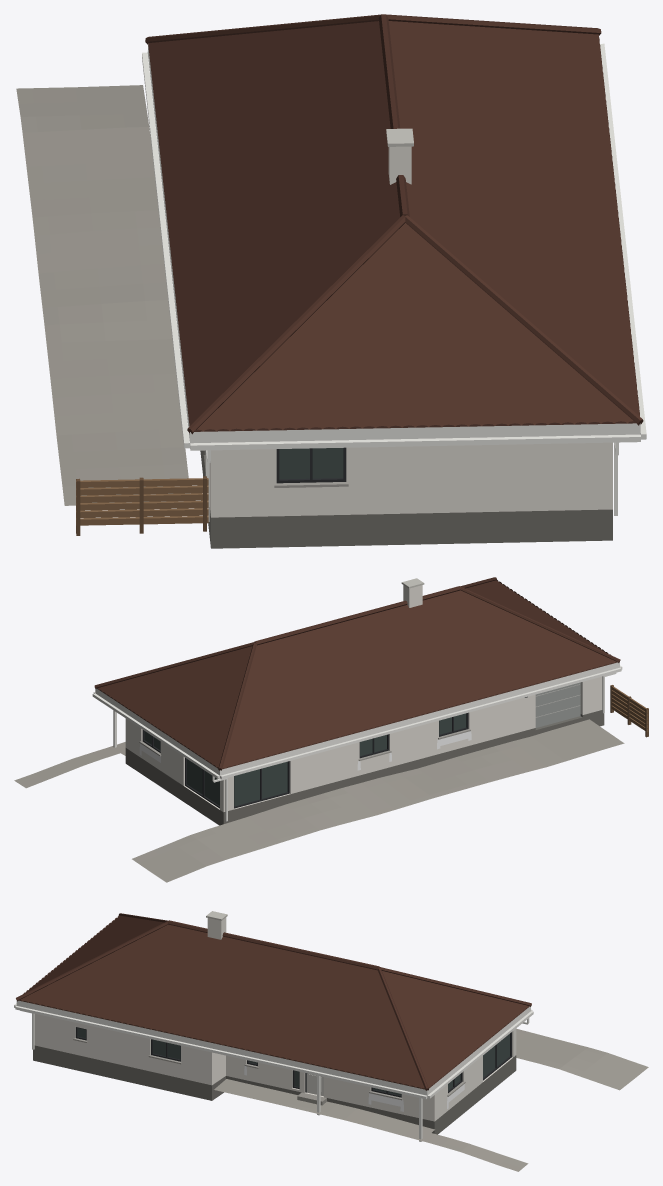
Rendered from vh_white_bungalow.glb.
The picture shows the model from 3 angles, top to bottom: view 1: azimuth 30°, elevation 25°; view 2: azimuth 150°, elevation 25°; view 3: azimuth 270°, elevation 25°; orthographic projection. The views are drawn at different scales.
Parts seen in each view (by area): view 1: vh_roof, vh_paving, vh_render, vh_trim, vh_frames_small, vh_glass, vh_stone; view 2: vh_roof, vh_paving, vh_trim, vh_render, vh_frames_small, vh_glass, vh_streaks_small, vh_stone; view 3: vh_roof, vh_render, vh_trim, vh_paving, vh_frames_small, vh_glass, vh_stone, vh_streaks_small.
Part boxes in pixels (<box>): vh_roof: <box>145,14,643,434</box>; vh_paving: <box>16,85,189,505</box>; vh_render: <box>209,146,612,517</box>; vh_trim: <box>148,34,640,548</box>; vh_frames_small: <box>76,43,646,535</box>; vh_glass: <box>279,448,343,479</box>; vh_stone: <box>274,128,413,487</box>; vh_roof: <box>94,577,620,770</box>; vh_paving: <box>14,719,624,882</box>; vh_trim: <box>95,579,619,825</box>; vh_render: <box>125,585,602,812</box>; vh_frames_small: <box>92,665,648,821</box>; vh_glass: <box>144,713,466,806</box>; vh_streaks_small: <box>139,731,471,770</box>; vh_stone: <box>139,578,470,760</box>; vh_roof: <box>16,913,531,1090</box>; vh_render: <box>34,917,516,1121</box>; vh_trim: <box>16,916,530,1141</box>; vh_paving: <box>214,1028,648,1171</box>; vh_frames_small: <box>14,1003,533,1099</box>; vh_glass: <box>77,1028,509,1095</box>; vh_stone: <box>73,911,465,1105</box>; vh_streaks_small: <box>244,1066,464,1111</box>.
Bounding box in the file's own units: 22.9 × 7.09 × 29.02.
